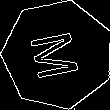M_E: (28, 27, 88, 82)
